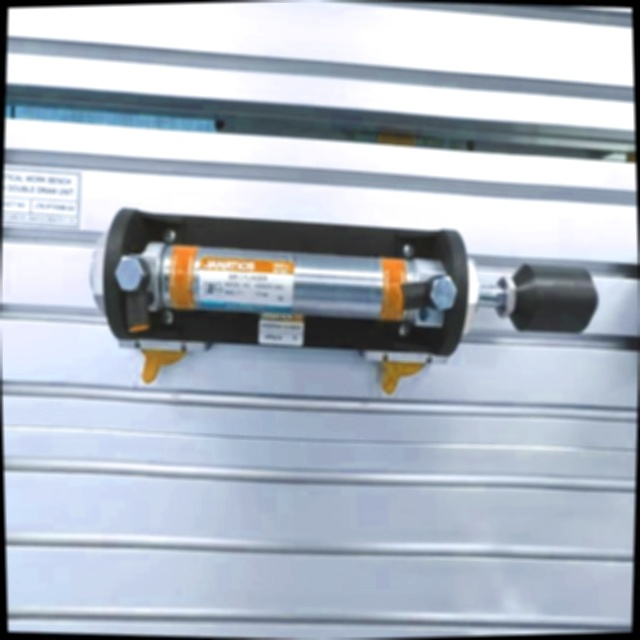double acting pneumatic cylinder: (78, 184, 612, 424)
